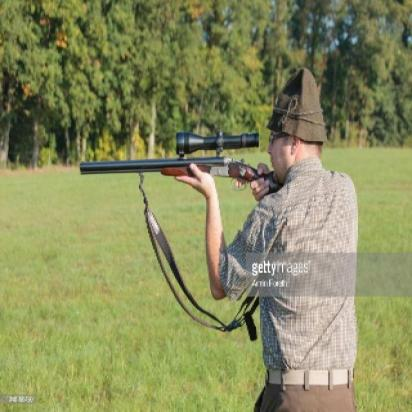Gun: (68, 120, 277, 199)
